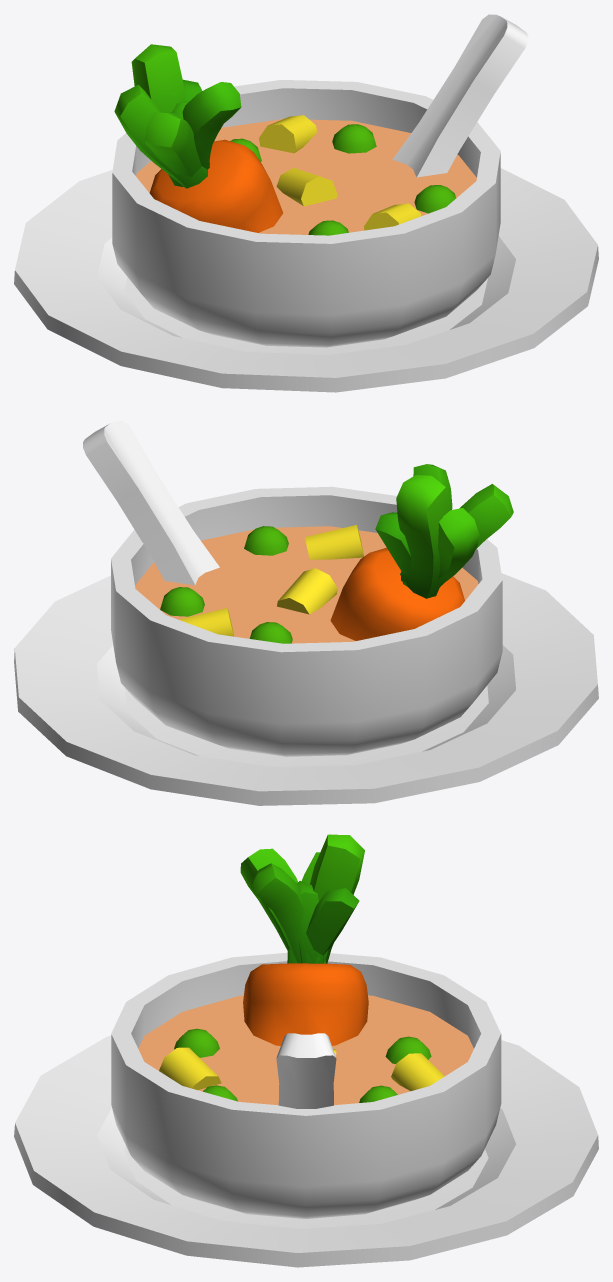
The model's file is Soup_01_Carrot.fbx.
3 renders of one model, top to bottom at view 1: azimuth 30°, elevation 25°; view 2: azimuth 150°, elevation 25°; view 3: azimuth 270°, elevation 25°, orthographic.
Parts seen in each view (by area): view 1: Soup_01_Carrot; view 2: Soup_01_Carrot; view 3: Soup_01_Carrot.
Boxes of the visible parts, <box> form: Soup_01_Carrot: <box>14,14,598,392</box>; Soup_01_Carrot: <box>14,421,598,805</box>; Soup_01_Carrot: <box>14,834,598,1267</box>.
Size of the model in its own units: 75.76 by 38.57 by 75.76.
